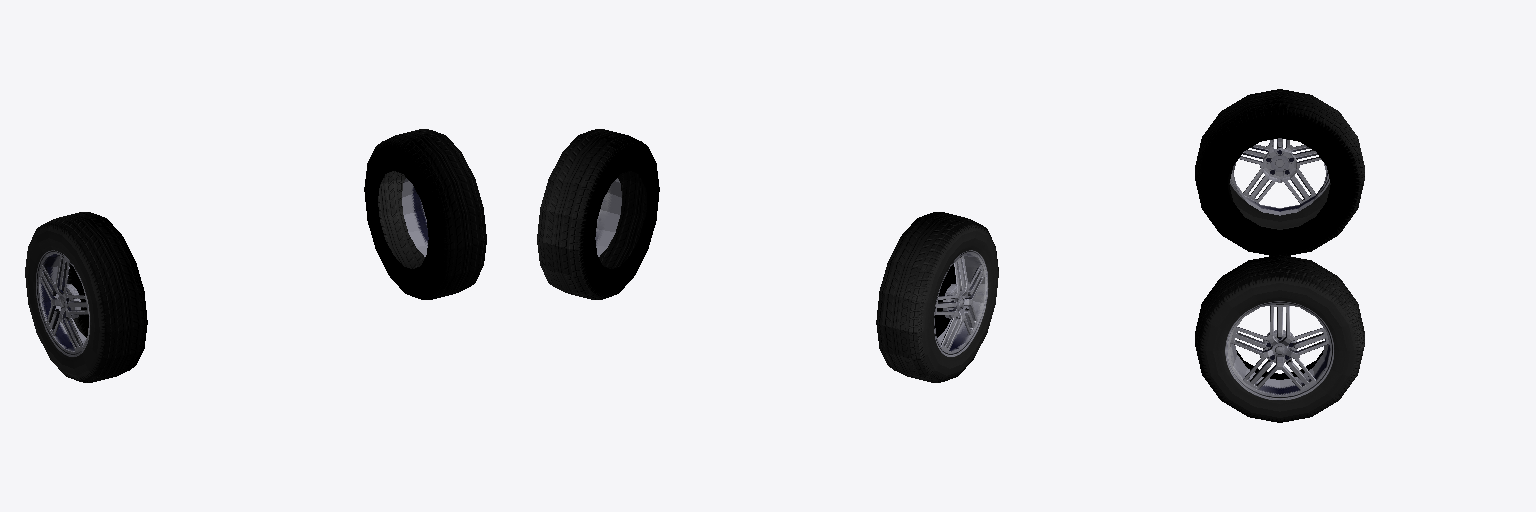
3 views of the same model, side by side, from view 1: azimuth 30°, elevation 25°; view 2: azimuth 150°, elevation 25°; view 3: azimuth 270°, elevation 25° (orthographic).
Parts seen in each view (by area): view 1: wheels_n_acc; view 2: wheels_n_acc; view 3: wheels_n_acc.
Boxes of the visible parts, <box> form: wheels_n_acc: <box>25,129,486,382</box>; wheels_n_acc: <box>537,129,998,382</box>; wheels_n_acc: <box>1195,89,1364,422</box>.
Bounding box in the file's own units: 26.94 × 10.12 × 10.12.
Materials: 1 (1 with a texture image).